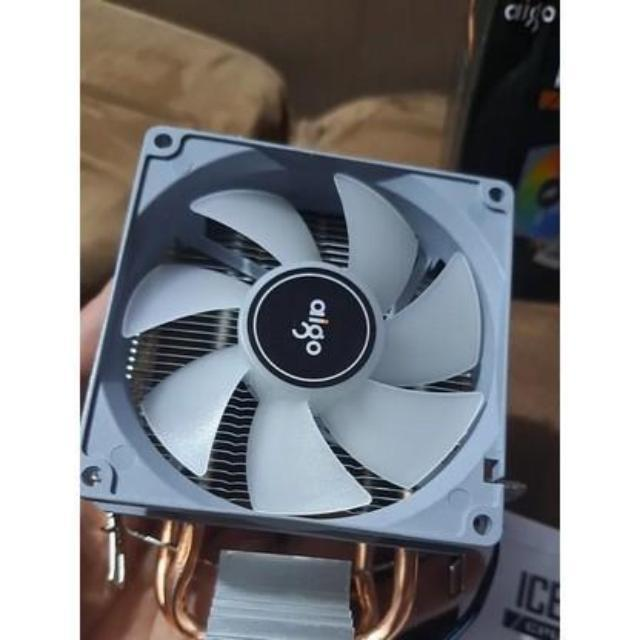CPU_Fan: (78, 126, 516, 551)
